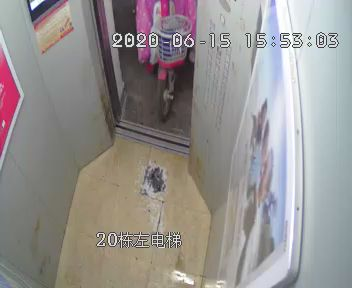Electric-bicycle: (147, 2, 193, 122)
